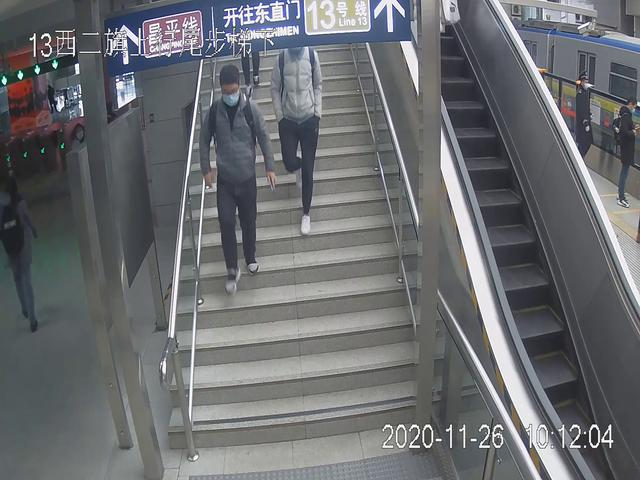person: (197, 62, 279, 294), (270, 38, 325, 239)
